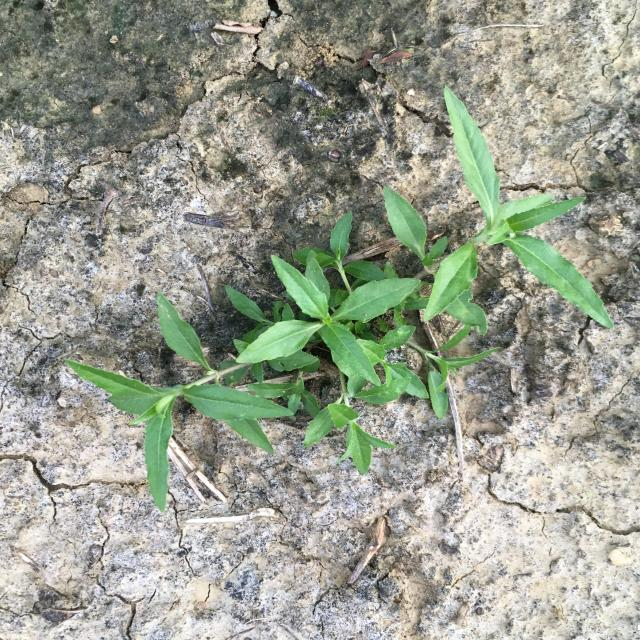Eclipta: (65, 87, 615, 514)
